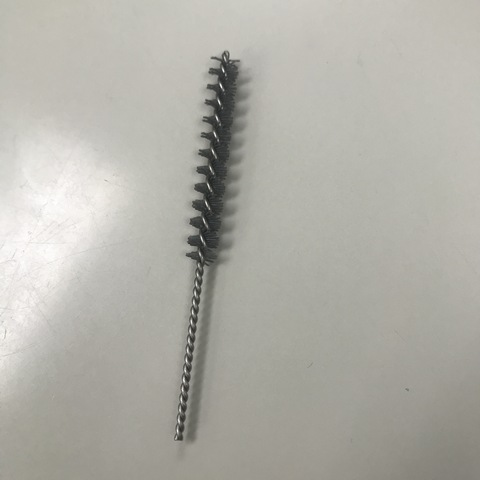Twist Brush-A: (170, 44, 244, 443)
